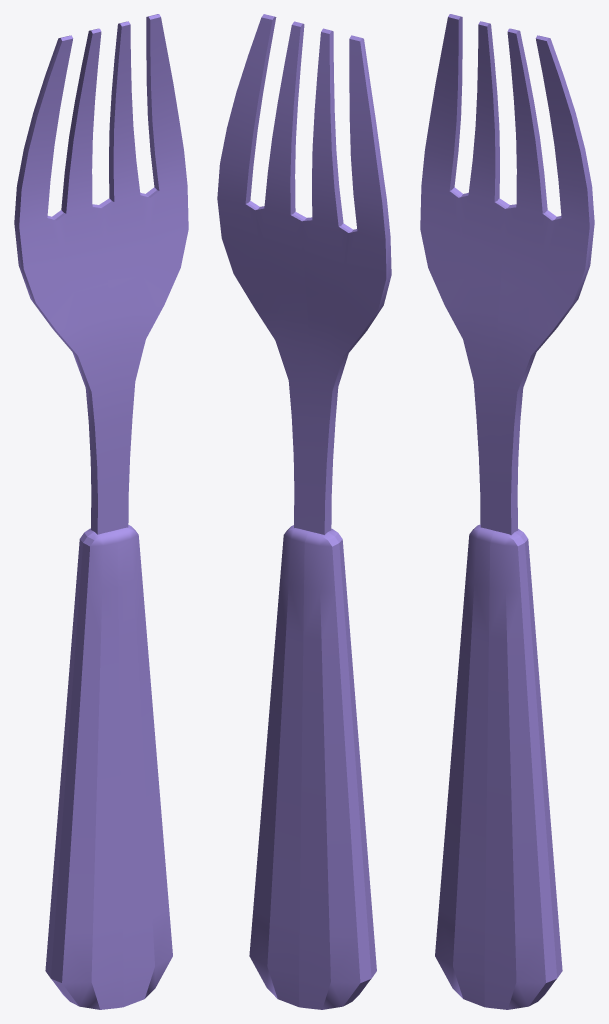
File: PROPS_OTHER_FORK_MODEL.fbx
The picture shows the model from 3 angles, left to right: view 1: azimuth 30°, elevation 25°; view 2: azimuth 150°, elevation 25°; view 3: azimuth 330°, elevation 25°; orthographic projection.
Visible parts, largest first — view 1: PROPS_OTHER_FORK_MODEL; view 2: PROPS_OTHER_FORK_MODEL; view 3: PROPS_OTHER_FORK_MODEL.
Part boxes in pixels (<box>): PROPS_OTHER_FORK_MODEL: <box>14,14,188,1009</box>; PROPS_OTHER_FORK_MODEL: <box>217,14,391,1009</box>; PROPS_OTHER_FORK_MODEL: <box>420,14,594,1009</box>.
Bounding box in the file's own units: 3.16 × 17.51 × 0.9266.
